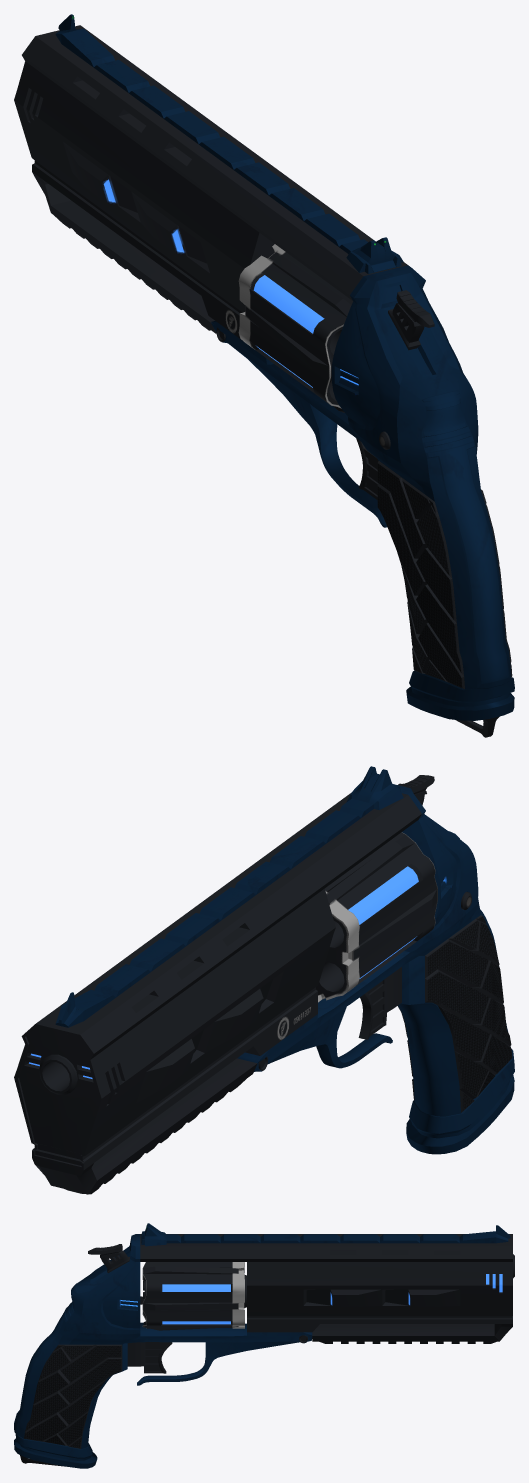
The picture shows the model from 3 angles, top to bottom: view 1: azimuth 30°, elevation 25°; view 2: azimuth 150°, elevation 25°; view 3: azimuth 270°, elevation 25°; orthographic projection. The views are drawn at different scales.
Visible parts, largest first — view 1: trunk, handle, drum, overlay, trigger; view 2: trunk, handle, drum, overlay, trigger2; view 3: trunk, handle, drum, overlay, trigger2, trigger.
Boxes of the visible parts, left/top/right/bottom form: trunk: left=14, top=14, right=407, bottom=340; handle: left=211, top=265, right=514, bottom=737; drum: left=238, top=244, right=352, bottom=412; overlay: left=377, top=461, right=512, bottom=689; trigger: left=388, top=290, right=434, bottom=350; trunk: left=14, top=766, right=421, bottom=1194; handle: left=237, top=784, right=514, bottom=1154; drum: left=316, top=832, right=437, bottom=1002; overlay: left=398, top=915, right=512, bottom=1112; trigger2: left=358, top=967, right=401, bottom=1039; trunk: left=140, top=1223, right=514, bottom=1343; handle: left=14, top=1234, right=312, bottom=1468; drum: left=142, top=1262, right=246, bottom=1330; overlay: left=24, top=1344, right=122, bottom=1448; trigger2: left=127, top=1342, right=172, bottom=1373; trigger: left=88, top=1244, right=129, bottom=1272.
Size of the model in its own units: 0.0605 by 0.2068 by 0.3878.
1 material, 1 textured.
